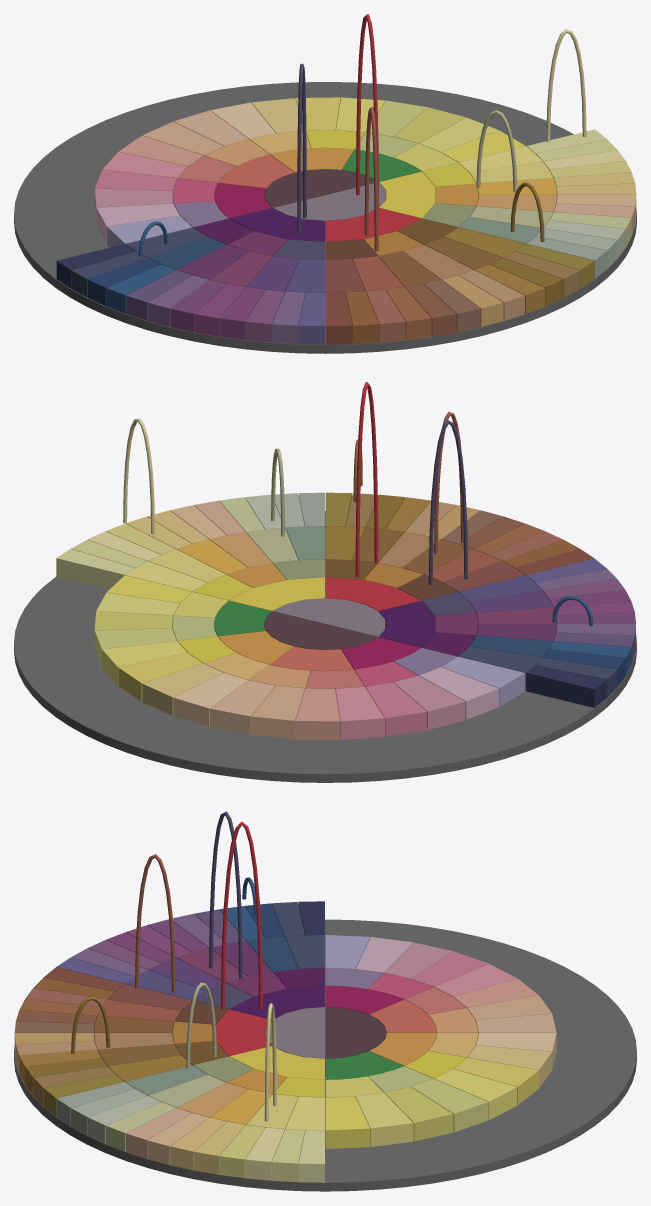
Rendered from wheel_sectors4.gltf.
The picture shows the model from 3 angles, top to bottom: view 1: azimuth 30°, elevation 25°; view 2: azimuth 150°, elevation 25°; view 3: azimuth 270°, elevation 25°; orthographic projection.
Parts seen in each view (by area): view 1: Curve, Curve.002, Curve.001, Curve.009, Curve.007, Curve.008, Curve.028, Curve.003, Curve.004, BezierCurve.006, BezierCurve.005, Curve.005 (+91 smaller); view 2: Curve, Curve.002, Curve.001, Curve.061, Curve.031, Curve.033, Curve.032, Curve.030, Curve.034, Curve.029, Curve.035, Curve.096 (+90 smaller); view 3: Curve, Curve.002, Curve.001, Curve.042, Curve.041, Curve.040, Curve.039, Curve.008, Curve.038, Curve.007, Curve.009, BezierCurve.006 (+91 smaller).
Boxes of the visible parts, x1,y1,x2,y2 form: Curve: (14,82,636,353); Curve.002: (264,169,373,207); Curve.001: (273,183,385,239); Curve.009: (379,171,435,218); Curve.007: (229,208,325,241); Curve.008: (326,208,421,241); Curve.028: (96,203,179,244); Curve.003: (214,183,271,218); Curve.004: (218,154,294,189); BezierCurve.006: (356,14,378,208); BezierCurve.005: (297,63,306,233); Curve.005: (270,148,353,172); Curve: (14,511,636,782); Curve.002: (264,611,377,649); Curve.001: (273,598,385,637); Curve.061: (526,665,606,707); Curve.031: (335,686,384,739); Curve.033: (251,685,304,739); Curve.032: (295,688,339,739); Curve.030: (365,682,427,736); Curve.034: (210,680,275,734); Curve.029: (393,675,465,729); Curve.035: (173,673,247,726); Curve.096: (56,549,134,589); Curve: (14,919,636,1191); Curve.002: (325,1007,386,1076); Curve.001: (265,1007,324,1058); Curve.042: (325,1096,370,1148); Curve.041: (355,1093,413,1146); Curve.040: (384,1087,453,1141); Curve.039: (411,1079,488,1132); Curve.008: (216,1009,271,1056); Curve.038: (434,1069,517,1119); Curve.007: (229,985,324,1019); Curve.009: (229,1046,325,1097); BezierCurve.006: (221,821,262,1009).
Size of the model in its own units: 4.91 by 2.07 by 4.9.
